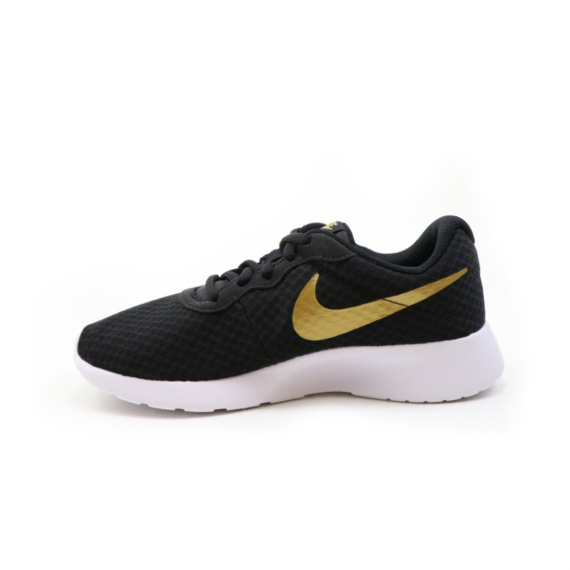nike: (285, 271, 472, 344)
